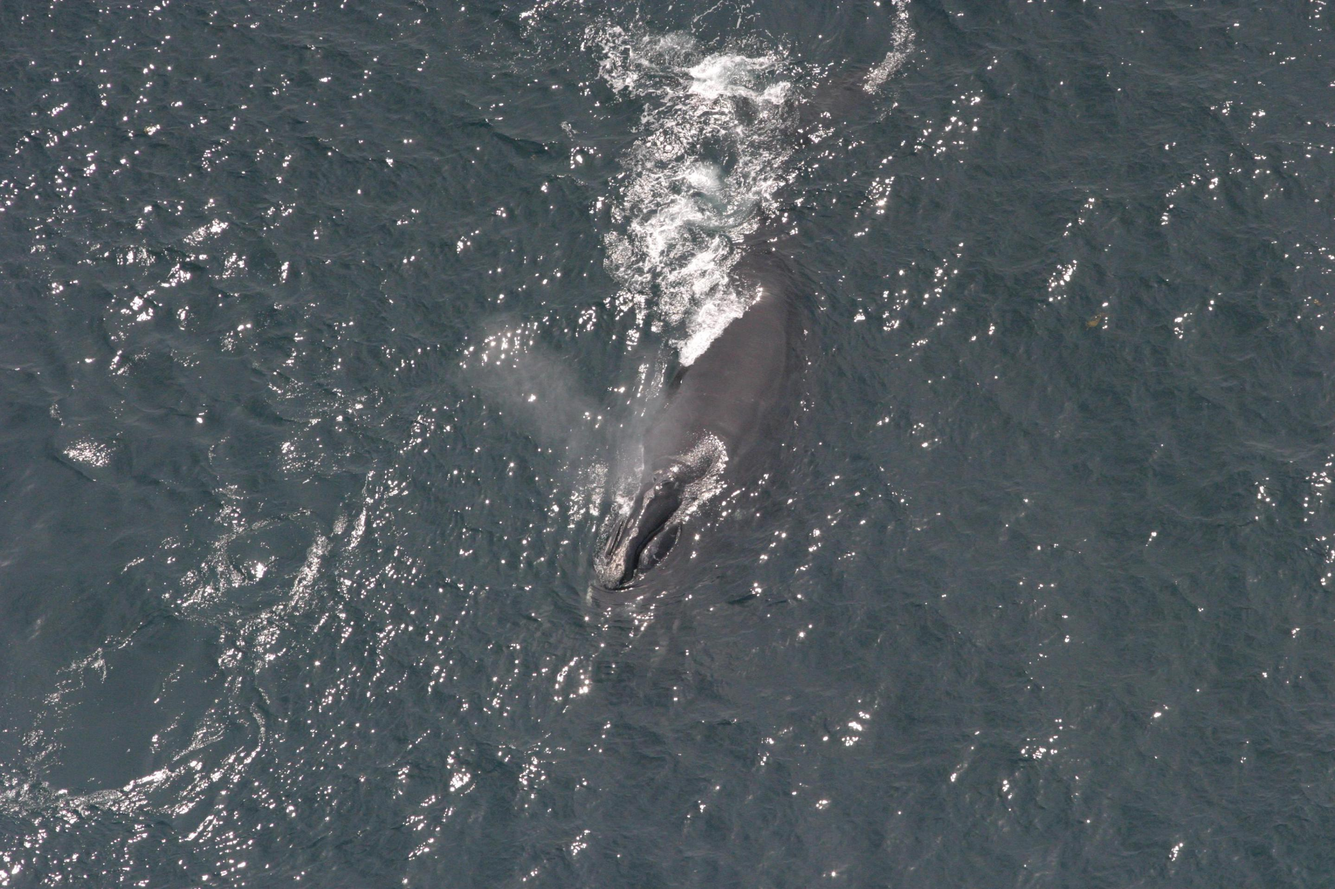whale: (571, 29, 924, 630)
